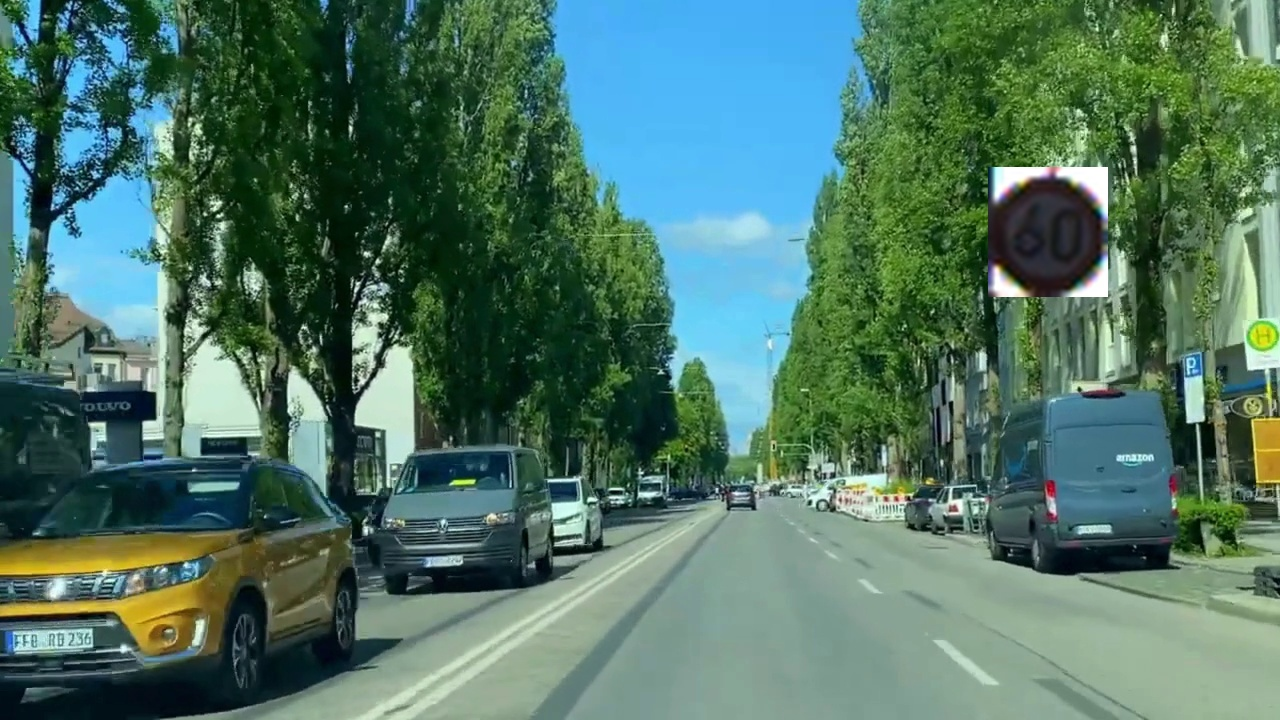Speed 60: (988, 167, 1108, 297)
